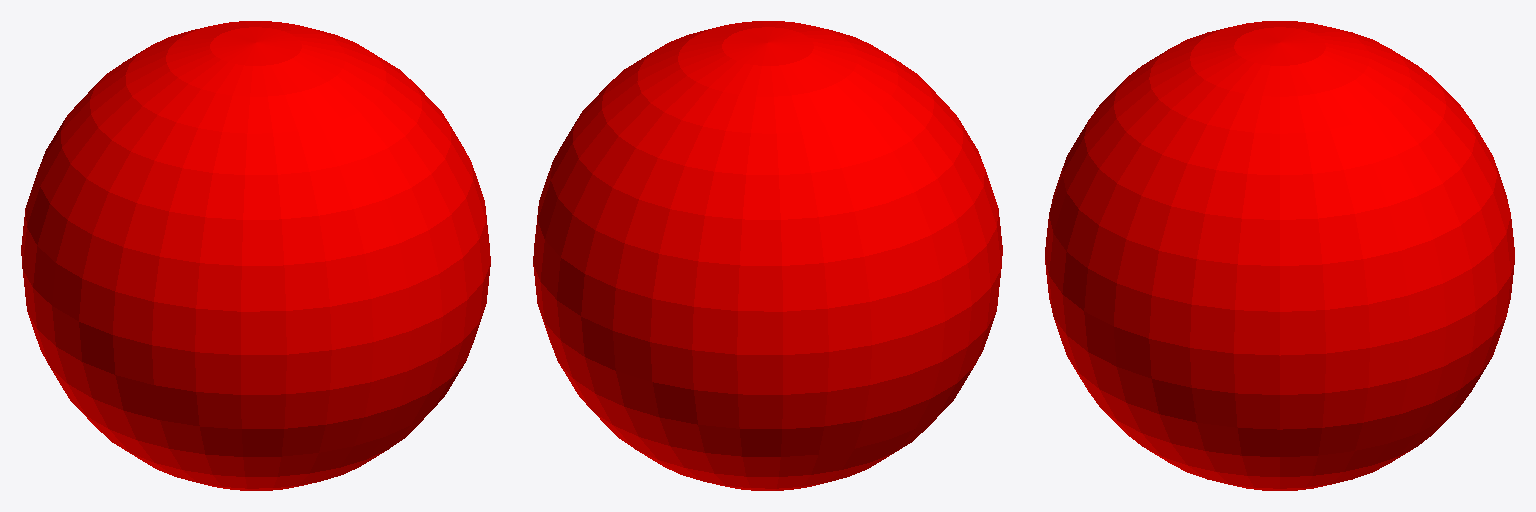
Rendered from red_sphere.obj.
The picture shows the model from 3 angles: view 1: azimuth 30°, elevation 25°; view 2: azimuth 150°, elevation 25°; view 3: azimuth 270°, elevation 25°; orthographic projection.
Visible parts, largest first — view 1: Sphere; view 2: Sphere; view 3: Sphere.
Boxes of the visible parts, x1=… form: Sphere: x1=21, y1=21, x2=490, y2=490; Sphere: x1=533, y1=21, x2=1002, y2=490; Sphere: x1=1045, y1=21, x2=1514, y2=490.
Size of the model in its own units: 0.4 by 0.4 by 0.4.